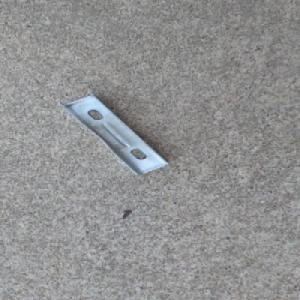ClampPart: (59, 91, 169, 176)
